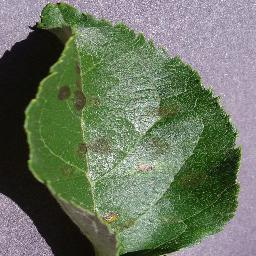apple healthy: (22, 0, 242, 255)
